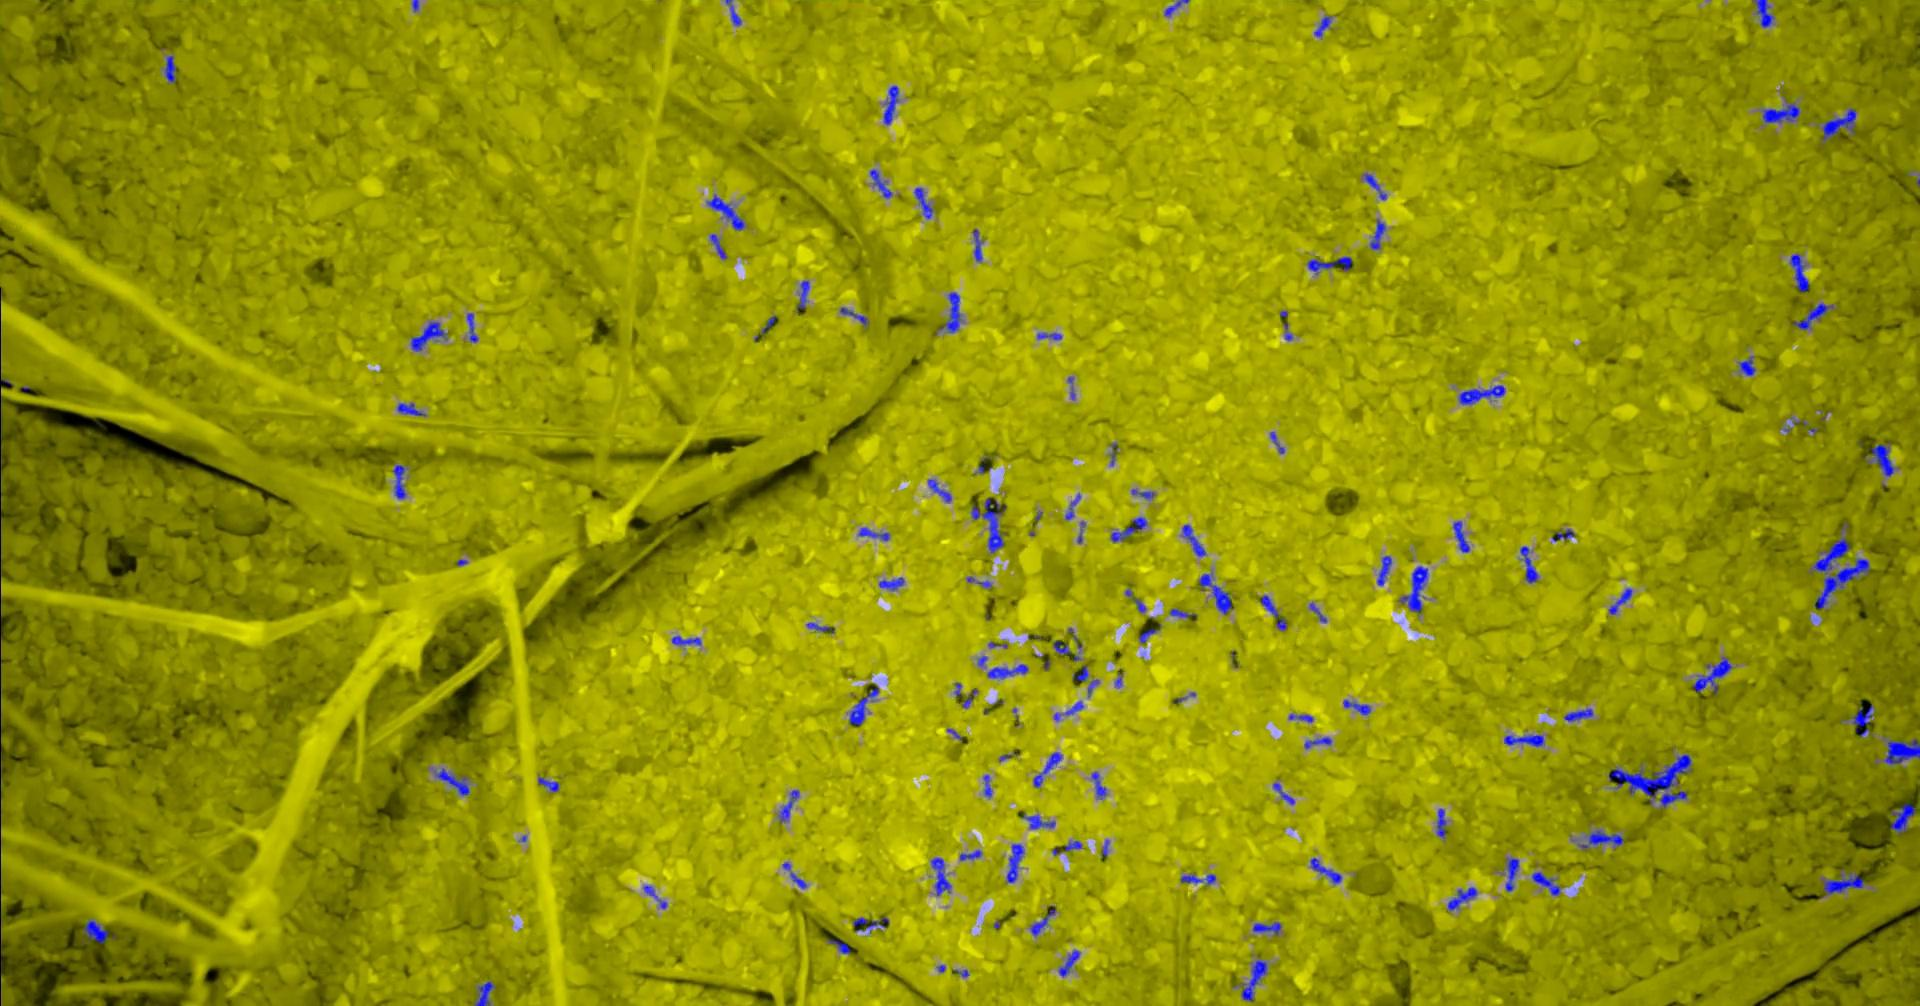ant: (973, 497, 1007, 553), (1694, 657, 1733, 694), (1200, 573, 1233, 614), (1401, 567, 1429, 614), (709, 194, 745, 229), (851, 685, 880, 725), (411, 321, 448, 351), (1243, 959, 1269, 1001), (1823, 108, 1857, 138), (1794, 304, 1834, 329), (1035, 752, 1063, 788), (436, 767, 471, 795), (1112, 516, 1148, 542), (1825, 871, 1865, 894), (1262, 594, 1288, 630), (1884, 738, 1920, 763), (1460, 385, 1506, 404), (941, 292, 963, 332), (1891, 803, 1917, 835), (1872, 441, 1896, 475), (1312, 857, 1343, 883), (1309, 257, 1354, 274), (932, 857, 952, 895), (1183, 525, 1208, 556), (1032, 904, 1057, 935), (1790, 254, 1810, 292), (85, 920, 117, 942), (1533, 871, 1562, 895), (1764, 103, 1801, 122), (1854, 704, 1876, 735), (1449, 887, 1478, 909), (1521, 545, 1539, 582), (1008, 843, 1025, 882), (1752, 0, 1775, 27), (916, 187, 935, 218), (871, 169, 893, 197), (885, 85, 900, 124), (855, 916, 890, 932), (1610, 588, 1633, 614), (781, 790, 800, 821), (1366, 173, 1388, 199), (989, 664, 1029, 678), (1023, 812, 1057, 828), (1590, 829, 1625, 845), (1454, 521, 1470, 553), (930, 479, 952, 502), (1060, 950, 1081, 976), (1274, 782, 1297, 804), (394, 464, 408, 498), (1371, 218, 1387, 249), (1378, 555, 1393, 586), (1126, 589, 1147, 612), (1505, 734, 1545, 746), (841, 307, 869, 324), (476, 981, 495, 1005), (797, 279, 811, 311), (711, 232, 728, 259), (1343, 699, 1371, 714), (1166, 0, 1191, 17), (858, 527, 891, 540), (1507, 857, 1520, 890), (1564, 708, 1594, 721), (1067, 493, 1082, 520), (1182, 873, 1217, 884), (728, 0, 743, 25), (974, 227, 985, 260), (1093, 771, 1107, 798), (399, 403, 427, 415), (1255, 922, 1283, 935), (829, 937, 852, 953), (1740, 356, 1757, 375), (538, 776, 560, 791), (880, 577, 905, 589), (1305, 737, 1333, 748), (1316, 17, 1332, 36), (673, 635, 703, 645), (166, 55, 178, 81), (469, 312, 479, 342), (1437, 808, 1448, 837), (1140, 627, 1159, 643), (808, 622, 836, 633), (1553, 528, 1575, 541), (792, 871, 808, 888), (1054, 640, 1072, 654), (961, 848, 983, 860), (1171, 608, 1197, 617), (1133, 489, 1156, 499), (1074, 666, 1090, 681), (1067, 701, 1084, 714), (1290, 713, 1316, 721), (1065, 840, 1083, 851), (1037, 332, 1063, 339), (985, 774, 993, 796)
